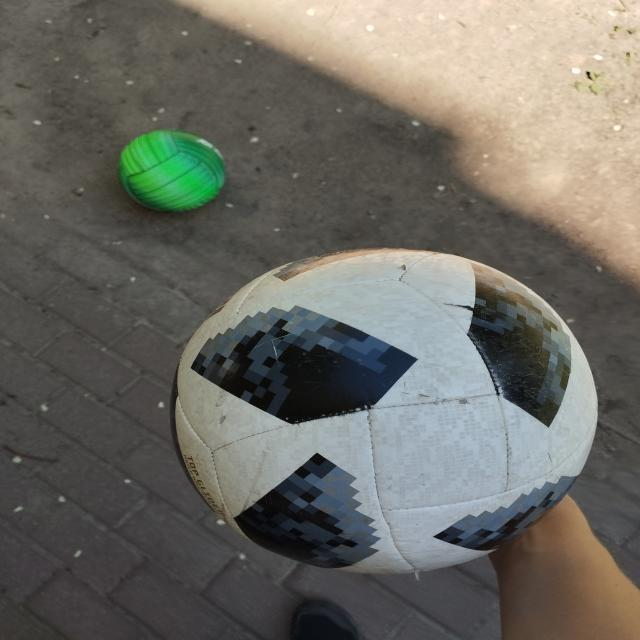nozna: (168, 247, 598, 575)
zielona: (118, 129, 226, 212)
